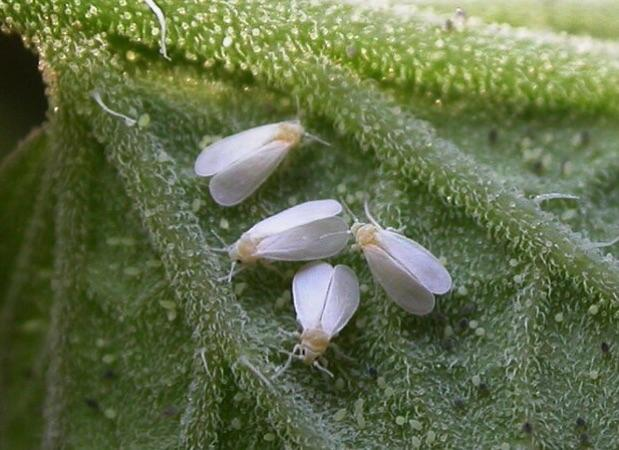Delphacidae: (318, 194, 453, 317), (193, 94, 331, 207), (211, 197, 349, 284), (270, 261, 360, 379)
